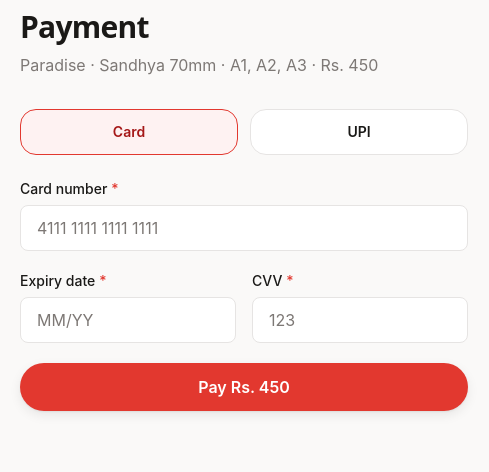
Scenario: PaymentPage › shows a validation error when card fields are submitted empty
The image size is (489, 472).
Click the button "Pay Rs. 450": (244, 387) [20,363,468,411]
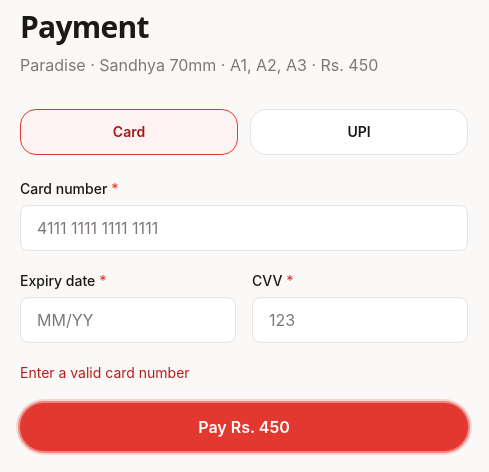
Check: the text "Enter a valid card number" is shown, box [20,364,190,381]
